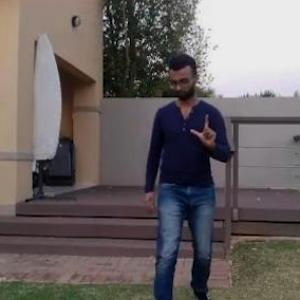land_hand: (179, 106, 218, 151)
